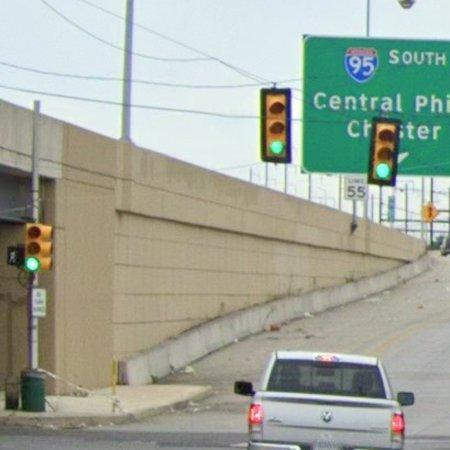traffic lights: (260, 87, 293, 165), (369, 116, 400, 186)
